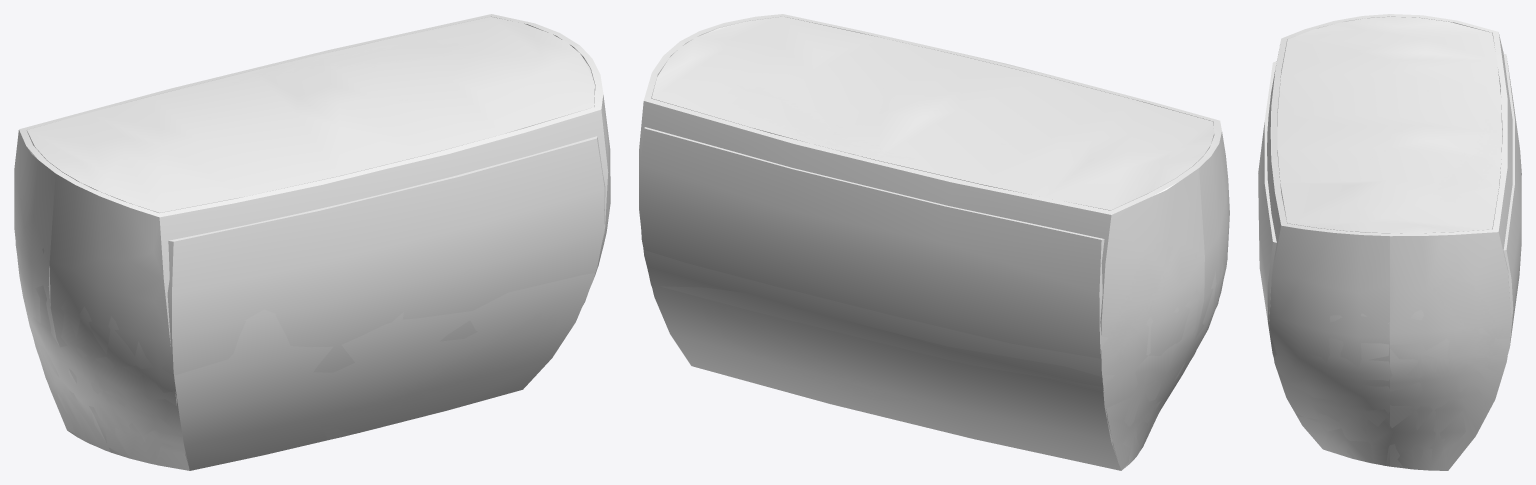
File: headtextured.dae
3 views of the same model, side by side, from view 1: azimuth 30°, elevation 25°; view 2: azimuth 150°, elevation 25°; view 3: azimuth 270°, elevation 25° (orthographic). The views are drawn at different scales.
Parts seen in each view (by area): view 1: hoofdversiekris; view 2: hoofdversiekris; view 3: hoofdversiekris.
Boxes of the visible parts, <box> form: hoofdversiekris: <box>14,14,610,470</box>; hoofdversiekris: <box>639,14,1229,470</box>; hoofdversiekris: <box>1258,14,1521,470</box>.
Size of the model in its own units: 655 by 341 by 321.
Materials: 1 (1 with a texture image).
